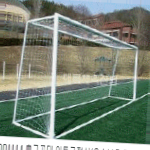goals: (12, 11, 139, 137)
